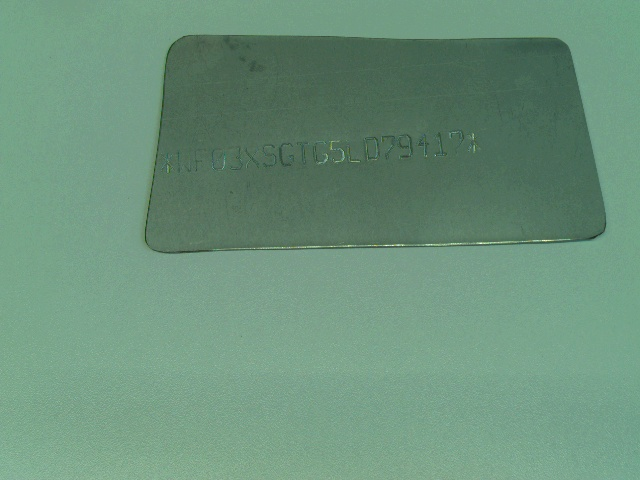0: (209, 147, 228, 172)
1: (431, 131, 449, 157)
3: (226, 144, 244, 172)
4: (414, 132, 431, 159)
5: (329, 138, 345, 165)
7: (447, 129, 466, 159), (379, 133, 397, 161)
9: (397, 134, 413, 160)
d: (362, 136, 380, 162)
f: (193, 147, 208, 171)
g: (279, 141, 297, 168), (311, 139, 329, 165)
l: (344, 137, 362, 164)
s: (260, 143, 278, 166)
t: (296, 139, 311, 166)
w: (175, 149, 194, 173)
x: (244, 145, 261, 171)
